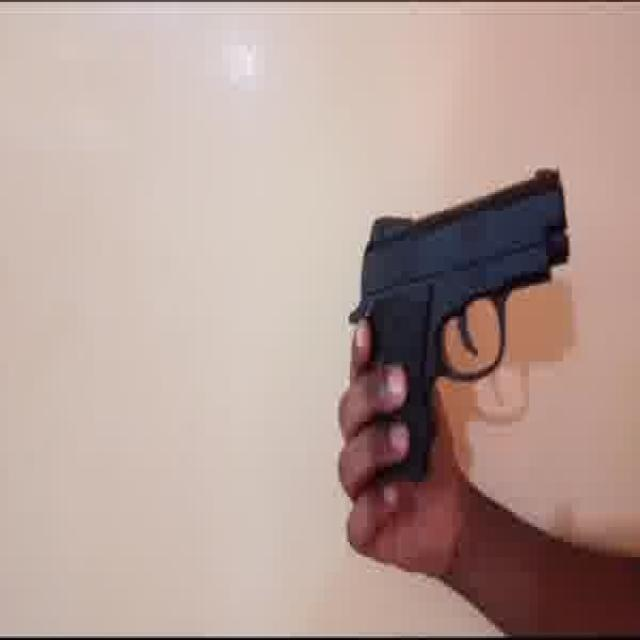weapon: (348, 164, 571, 482)
